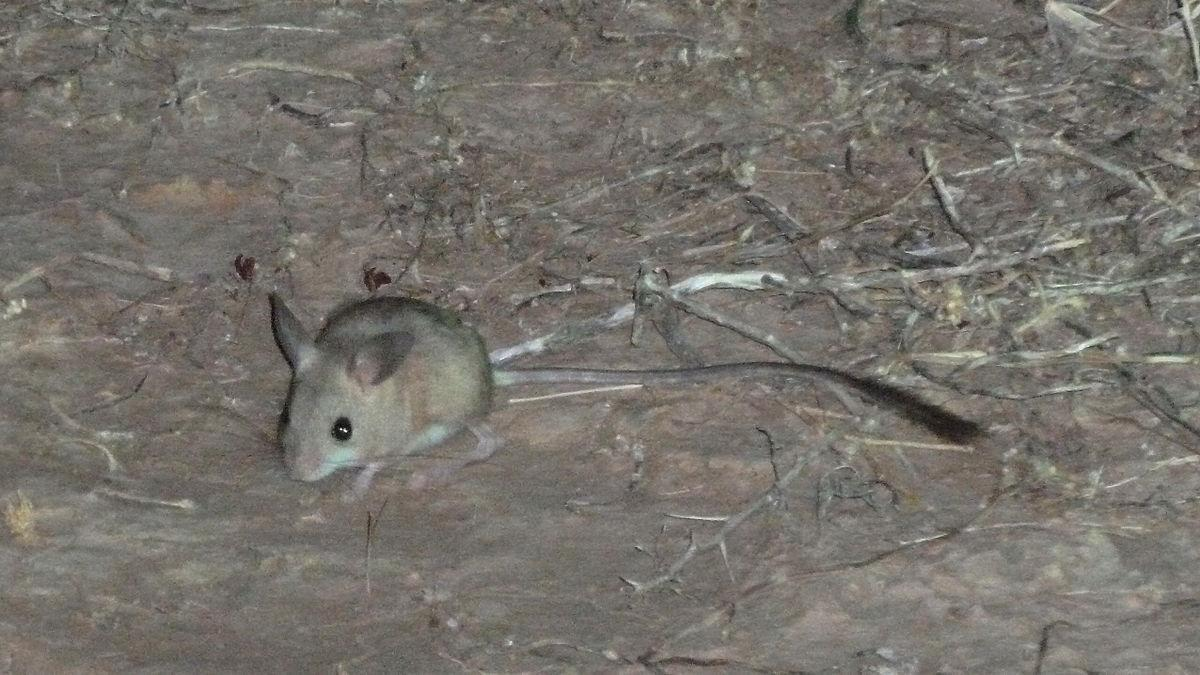rat: (267, 290, 993, 478)
